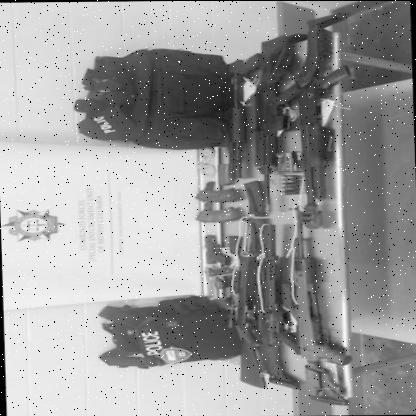rifle: (288, 14, 360, 201), (288, 206, 350, 408)
